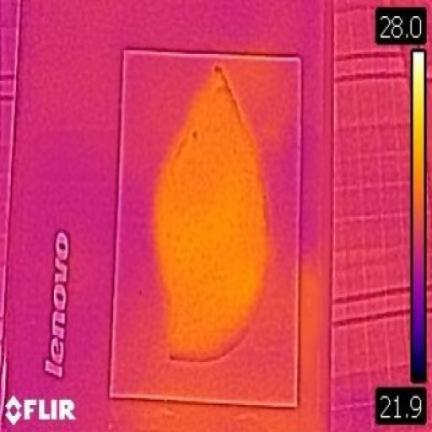mango: (153, 66, 268, 360)
